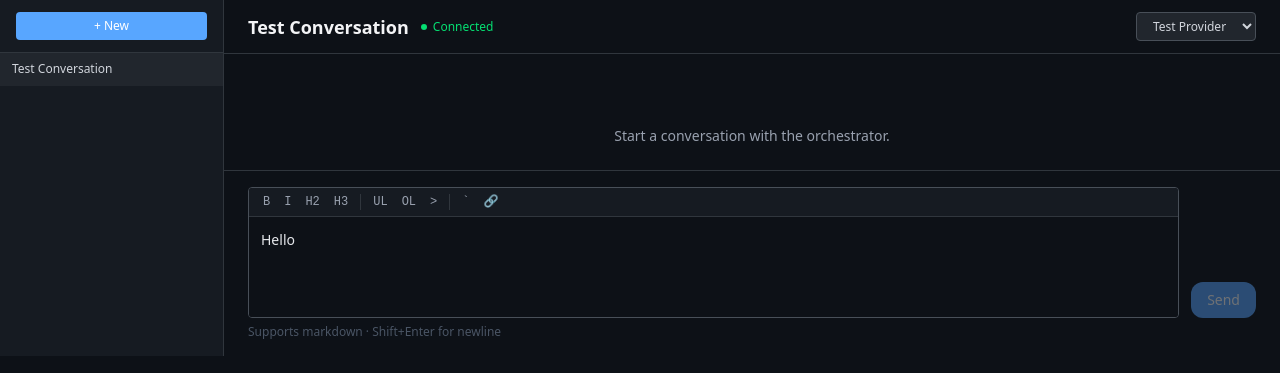
Chat — rendering › Send button is enabled when connected and input has text
Expected: the text "Connected" is shown, [421,18,494,34]
Clear the field named "Message": point(714, 267) [249,217,1178,317]
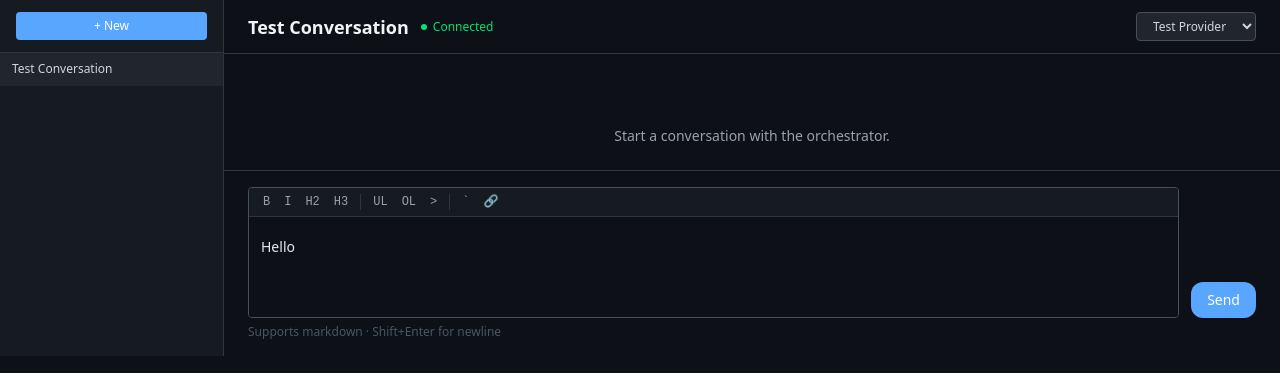
Expected: the button "Send" is enabled, [1191,282,1256,318]
